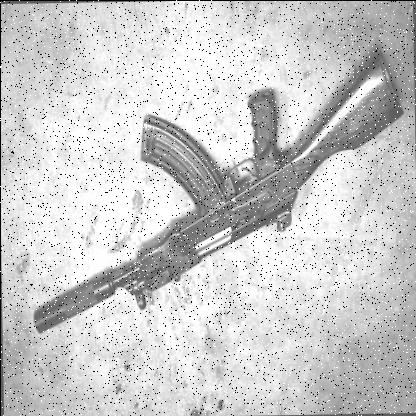rifle: (30, 48, 407, 367)
